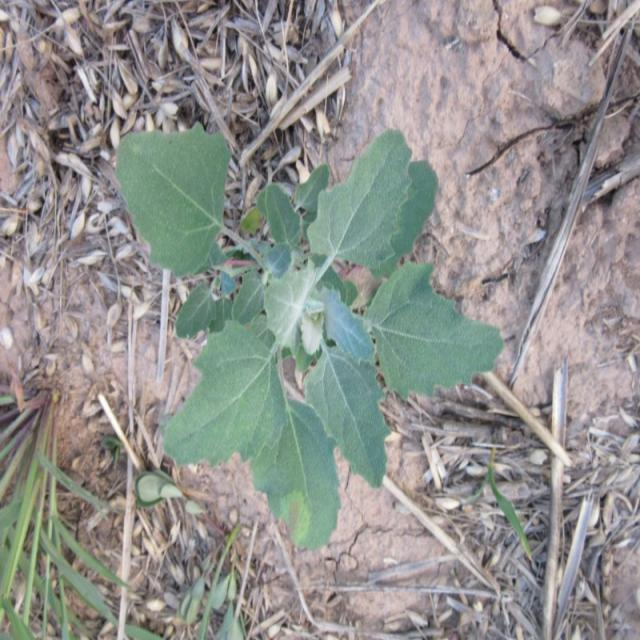ca: (116, 129, 504, 556)
